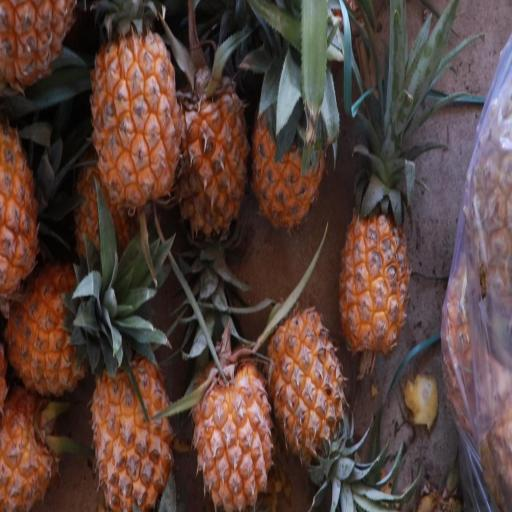Pineapple - v8 v1: (90, 4, 184, 226), (4, 249, 132, 396), (264, 299, 347, 493), (188, 338, 275, 512), (335, 168, 414, 358), (86, 347, 176, 512), (177, 49, 252, 245), (250, 63, 329, 239), (0, 113, 53, 313)
